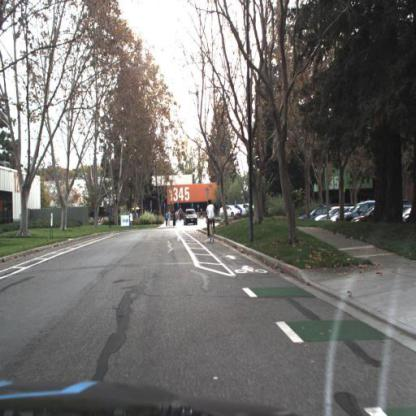biker: (206, 199, 215, 244), (207, 200, 216, 241)
car: (342, 200, 372, 221), (300, 205, 325, 221), (183, 207, 199, 227), (316, 206, 336, 222)
pedestrian: (166, 210, 172, 227), (173, 209, 177, 227), (180, 206, 183, 222)
